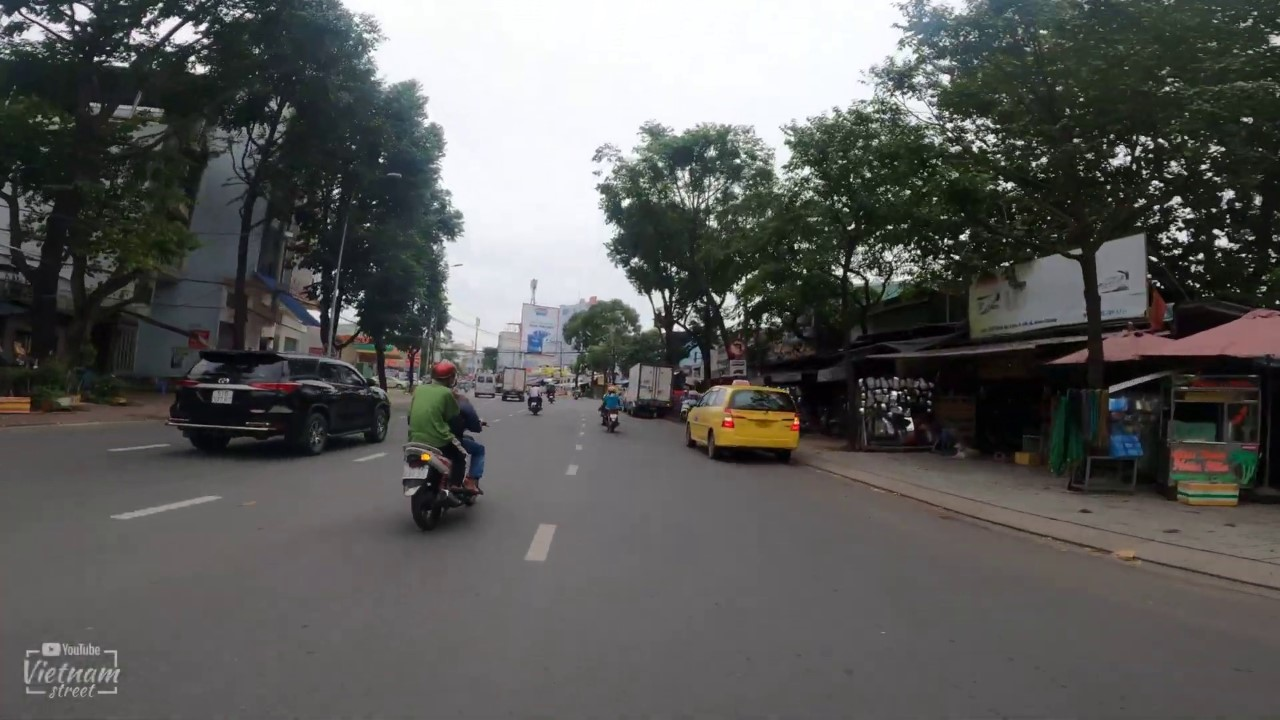cam_re_trai: (728, 339, 747, 357)
